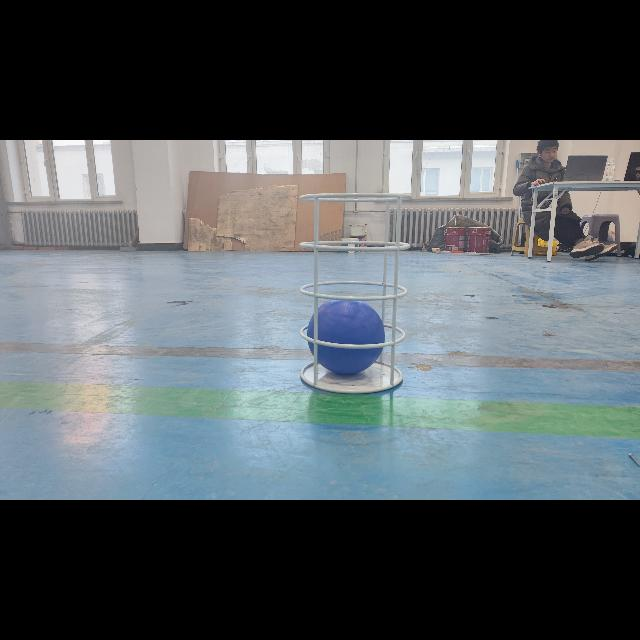B: (308, 299, 384, 375)
S: (294, 188, 416, 402)
